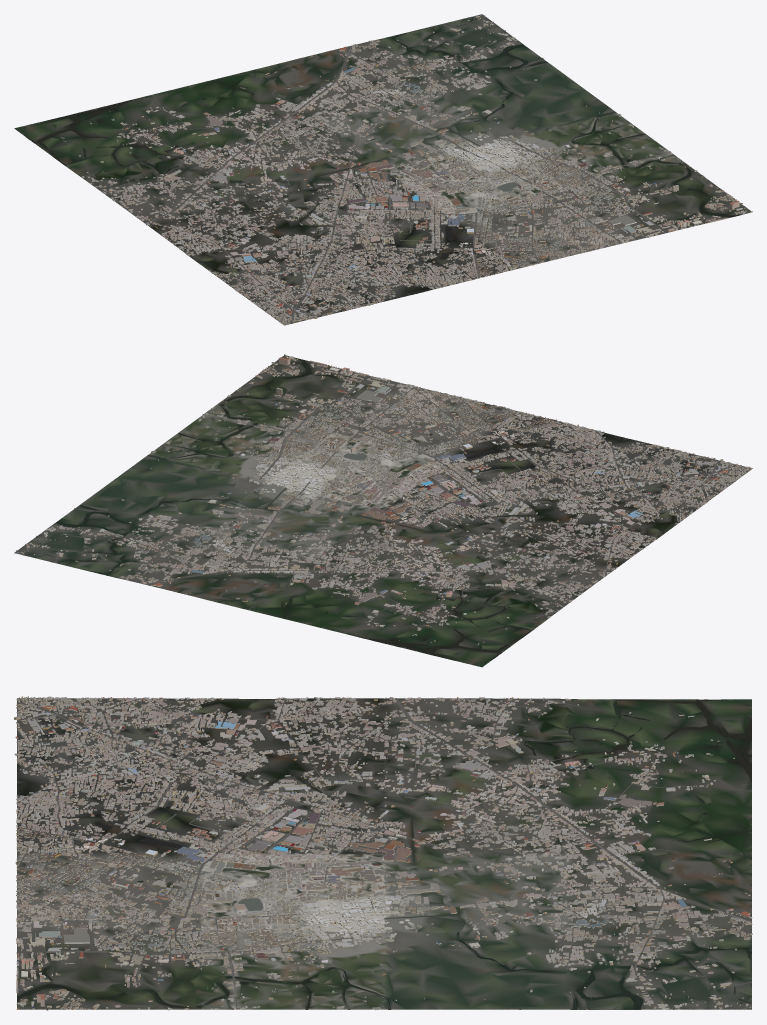
The picture shows the model from 3 angles, top to bottom: view 1: azimuth 30°, elevation 25°; view 2: azimuth 150°, elevation 25°; view 3: azimuth 270°, elevation 25°; orthographic projection. The views are drawn at different scales.
Parts seen in each view (by area): view 1: ground, buildings, roads, water; view 2: ground, buildings, roads, water; view 3: ground, buildings, roads, water.
Boxes of the visible parts, bbox=[...] form: ground: bbox=[14, 14, 750, 325]; buildings: bbox=[60, 14, 752, 324]; roads: bbox=[88, 24, 671, 323]; water: bbox=[23, 17, 739, 258]; ground: bbox=[14, 355, 752, 667]; buildings: bbox=[16, 354, 751, 645]; roads: bbox=[48, 364, 747, 635]; water: bbox=[26, 358, 533, 664]; ground: bbox=[17, 698, 751, 1009]; buildings: bbox=[14, 696, 752, 1010]; roads: bbox=[16, 698, 751, 1009]; water: bbox=[17, 699, 751, 1009].
Bounding box in the file's own units: 5625 × 64.63 × 5632.
